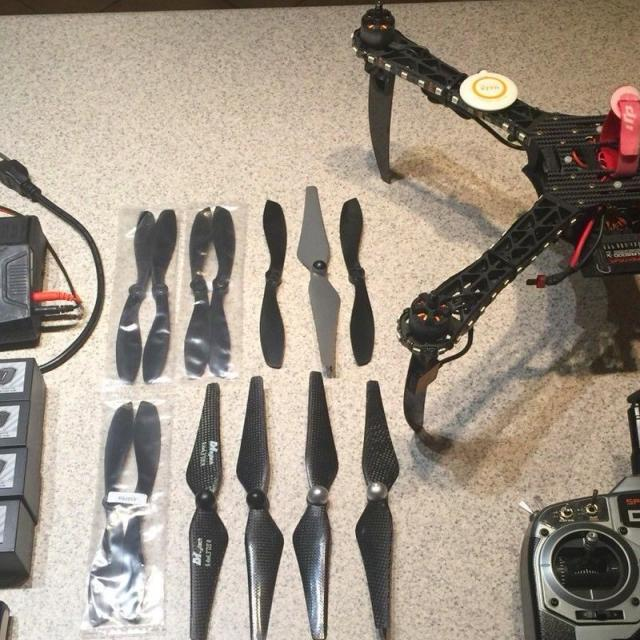drone: (328, 0, 640, 461)
